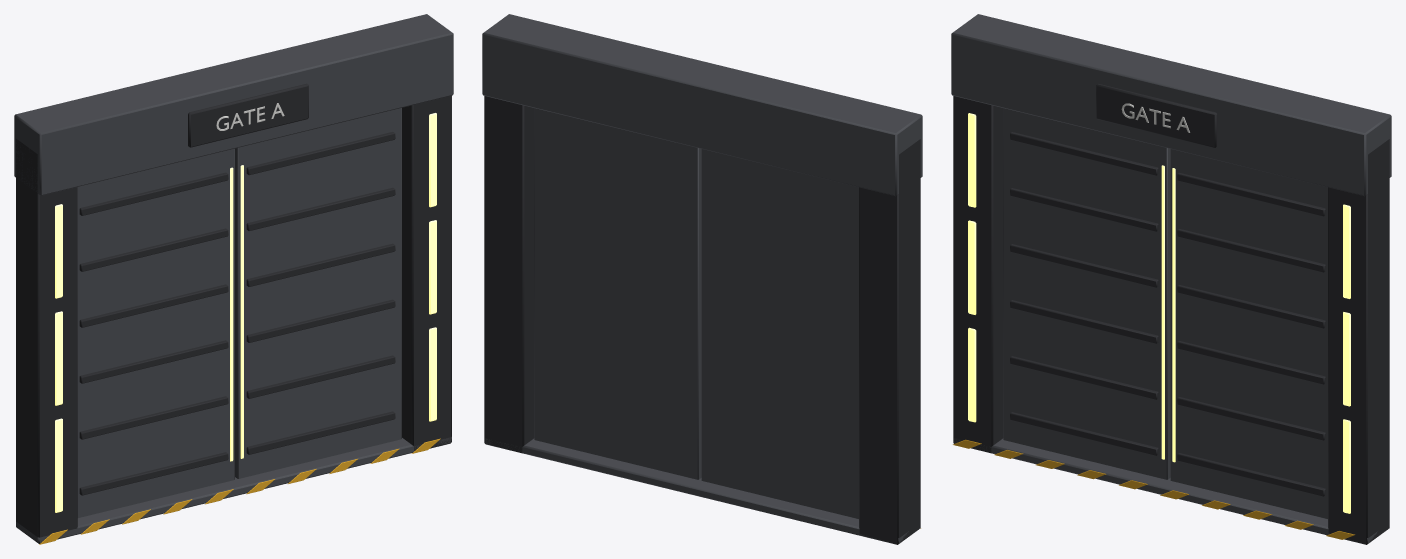
File: Fighter_Gate.glb
The picture shows the model from 3 angles, left to right: view 1: azimuth 30°, elevation 25°; view 2: azimuth 150°, elevation 25°; view 3: azimuth 330°, elevation 25°; orthographic projection.
Parts seen in each view (by area): view 1: Gate_Frame, Gate_Door_R, Gate_Door_L; view 2: Gate_Frame, Gate_Door_R, Gate_Door_L; view 3: Gate_Frame, Gate_Door_L, Gate_Door_R.
Boxes of the visible parts, box(x1,y1,x2,y2) form: Gate_Frame: box(14, 14, 453, 544); Gate_Door_R: box(235, 108, 401, 478); Gate_Door_L: box(77, 148, 234, 517); Gate_Frame: box(482, 14, 922, 544); Gate_Door_R: box(534, 108, 701, 479); Gate_Door_L: box(701, 149, 858, 518); Gate_Frame: box(951, 14, 1391, 544); Gate_Door_L: box(1003, 108, 1170, 479); Gate_Door_R: box(1170, 149, 1327, 518).
Bounding box in the file's own units: 6.2 × 5.9 × 0.77.
